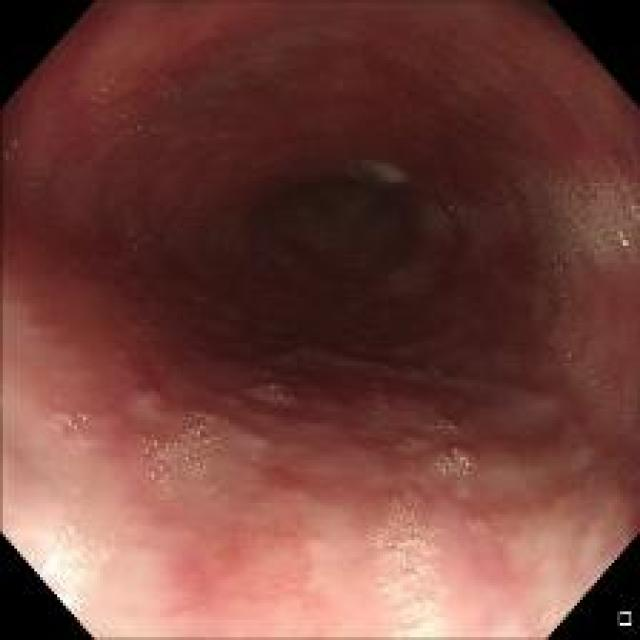bubbles: (530, 151, 631, 329), (364, 486, 454, 638), (134, 400, 228, 496), (260, 355, 282, 405)
color misalignment: (139, 401, 225, 490), (376, 488, 441, 579), (40, 399, 100, 456), (444, 448, 470, 482), (562, 225, 586, 261), (1, 126, 22, 165)
contrast: (156, 121, 511, 361)
saturation: (36, 521, 108, 611), (376, 582, 448, 636)
